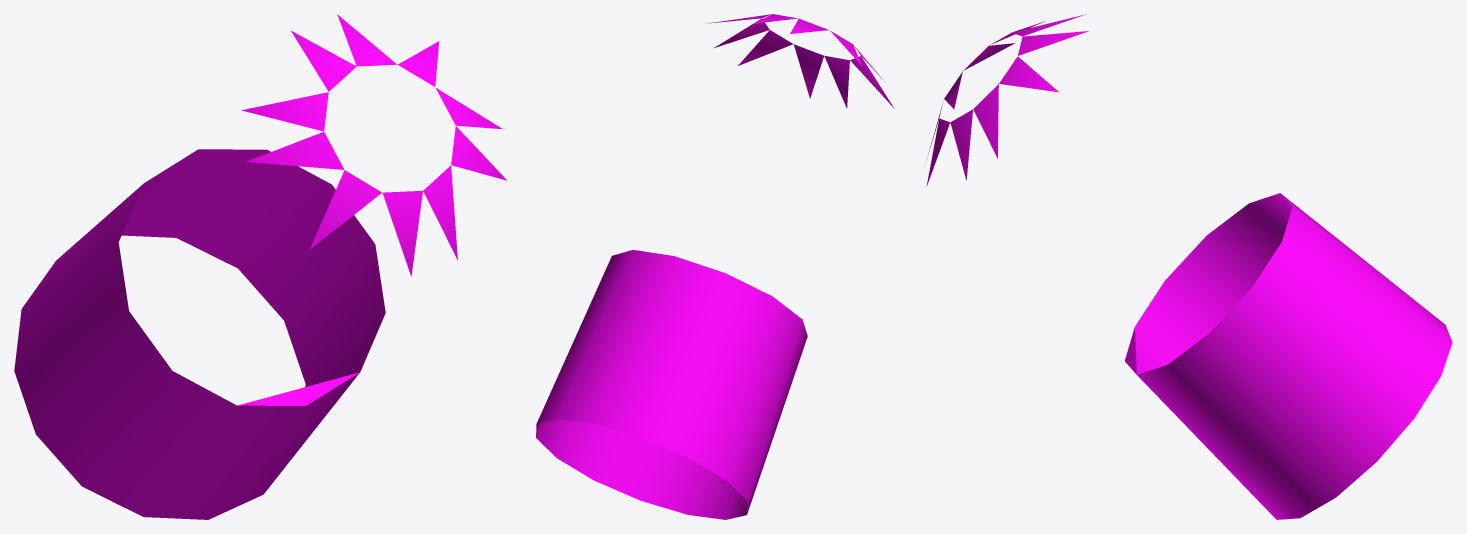
The model's file is F266820012936_003_kappe_bew_arm_Rep.dae.
3 views of the same model, side by side, from view 1: azimuth 30°, elevation 25°; view 2: azimuth 150°, elevation 25°; view 3: azimuth 270°, elevation 25° (orthographic). The views are drawn at different scales.
Parts seen in each view (by area): view 1: F266820012936_003_kappe_bew_arm; view 2: F266820012936_003_kappe_bew_arm; view 3: F266820012936_003_kappe_bew_arm.
Part boxes in pixels (<box>): F266820012936_003_kappe_bew_arm: <box>14,14,507,519</box>; F266820012936_003_kappe_bew_arm: <box>536,14,894,519</box>; F266820012936_003_kappe_bew_arm: <box>926,14,1452,519</box>.
Bounding box in the file's own units: 11.82 × 24.52 × 24.53.
